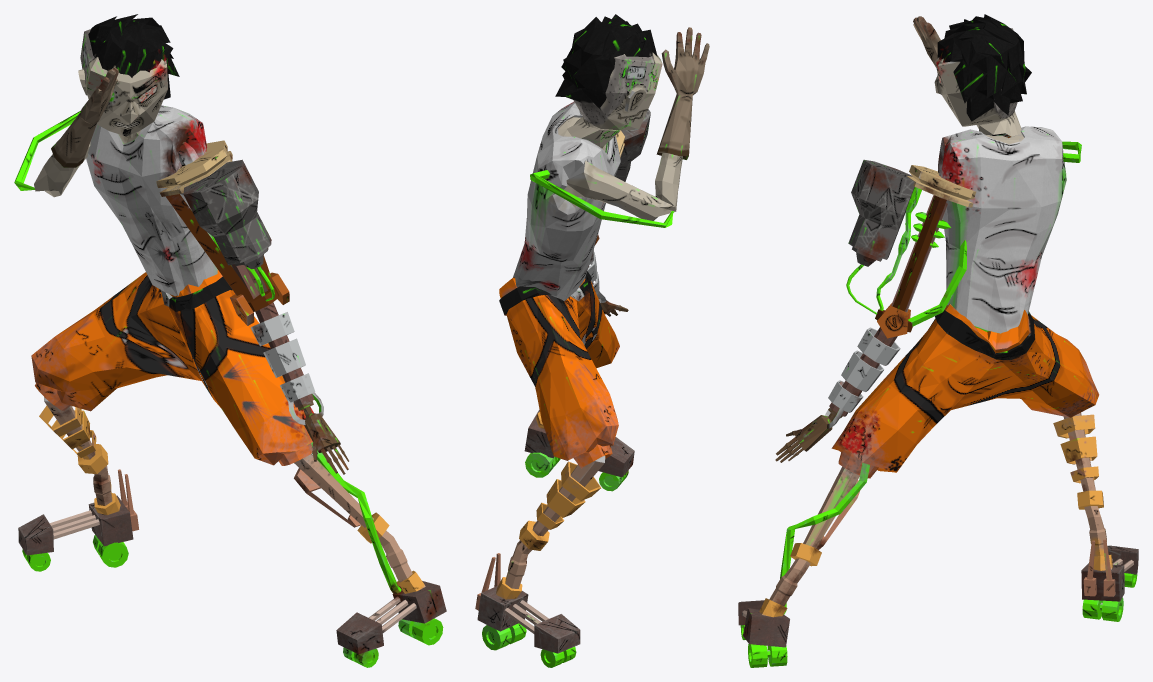
File: CyborgFINALAnimation_000051.obj
The picture shows the model from 3 angles, left to right: view 1: azimuth 30°, elevation 25°; view 2: azimuth 150°, elevation 25°; view 3: azimuth 270°, elevation 25°; orthographic projection. The views are drawn at different scales.
Visible parts, largest first — view 1: CyborgMesh_Cube.002; view 2: CyborgMesh_Cube.002; view 3: CyborgMesh_Cube.002.
Boxes of the visible parts, left/top/right/bottom form: CyborgMesh_Cube.002: left=14, top=14, right=446, bottom=667; CyborgMesh_Cube.002: left=475, top=14, right=709, bottom=667; CyborgMesh_Cube.002: left=738, top=14, right=1138, bottom=667.
Bounding box in the file's own units: 4.23 × 8.64 × 5.44.
